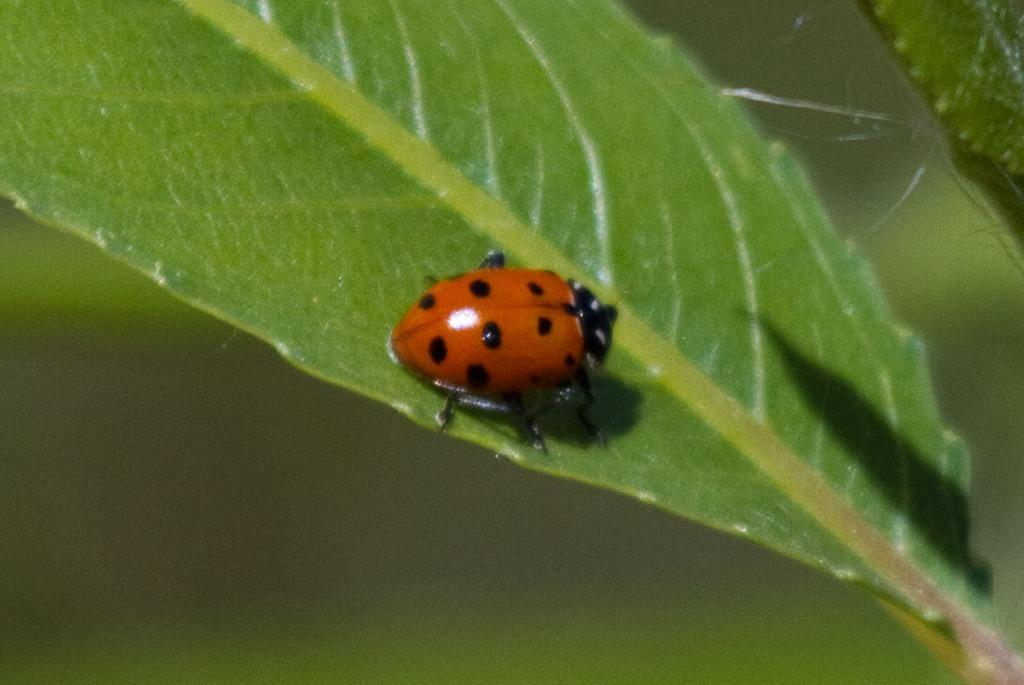ladybug: (383, 249, 625, 455)
